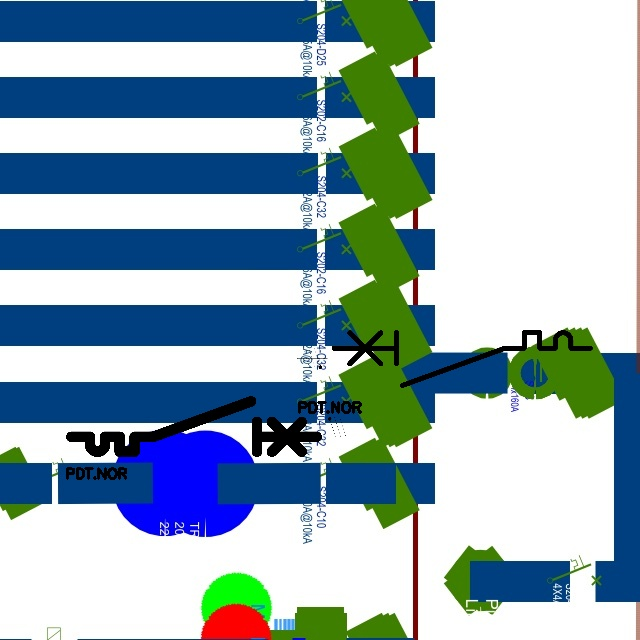interruptor_termomagnetico: (327, 326, 596, 392), (65, 395, 323, 458)
